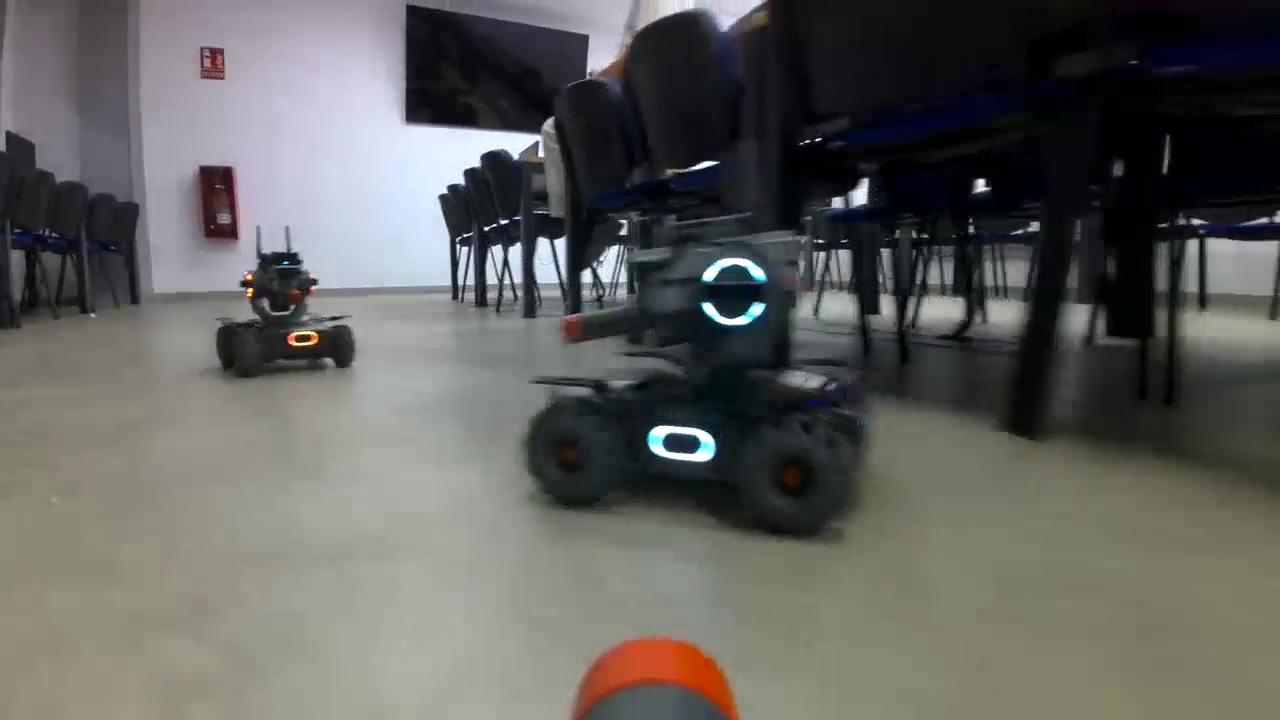robot: (524, 211, 868, 538), (216, 250, 356, 378)
